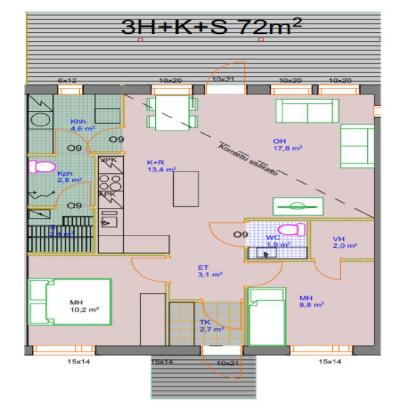door: (201, 59, 250, 96), (202, 346, 242, 378), (201, 298, 243, 328), (53, 178, 96, 207), (128, 254, 172, 282), (240, 258, 283, 285), (204, 220, 247, 247), (86, 130, 128, 153), (52, 128, 91, 152), (310, 259, 347, 283)
window: (35, 345, 95, 354), (317, 84, 358, 95), (289, 346, 353, 353), (270, 84, 314, 94), (151, 85, 192, 93), (59, 84, 86, 96)
zone: (105, 94, 378, 348), (26, 10, 382, 86), (28, 92, 126, 253), (35, 255, 167, 347), (153, 356, 255, 400)
